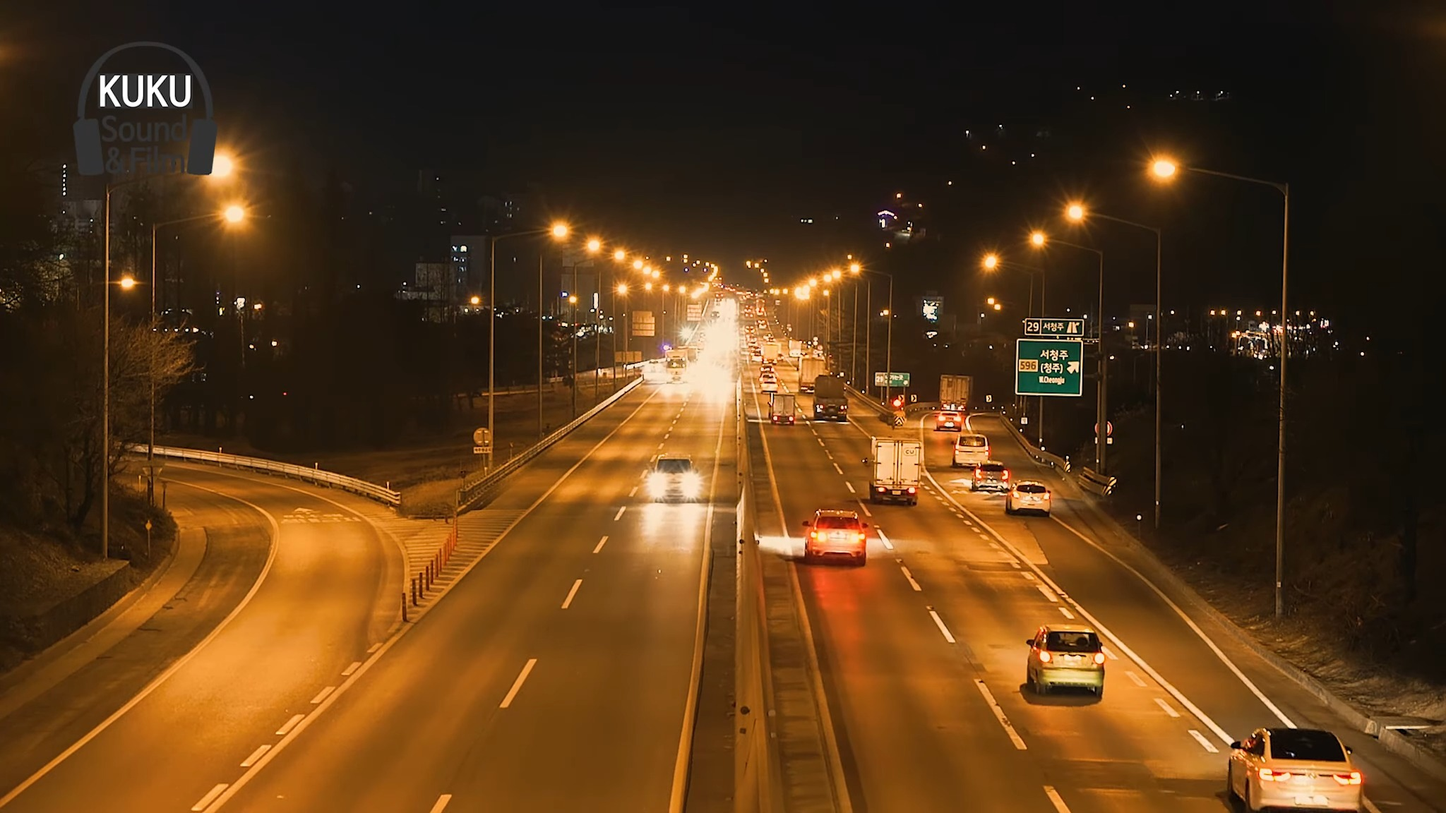car: (1227, 718, 1367, 813), (1024, 620, 1109, 700), (803, 508, 870, 567), (646, 454, 694, 507), (1003, 478, 1052, 515)
truck: (862, 431, 926, 505)
